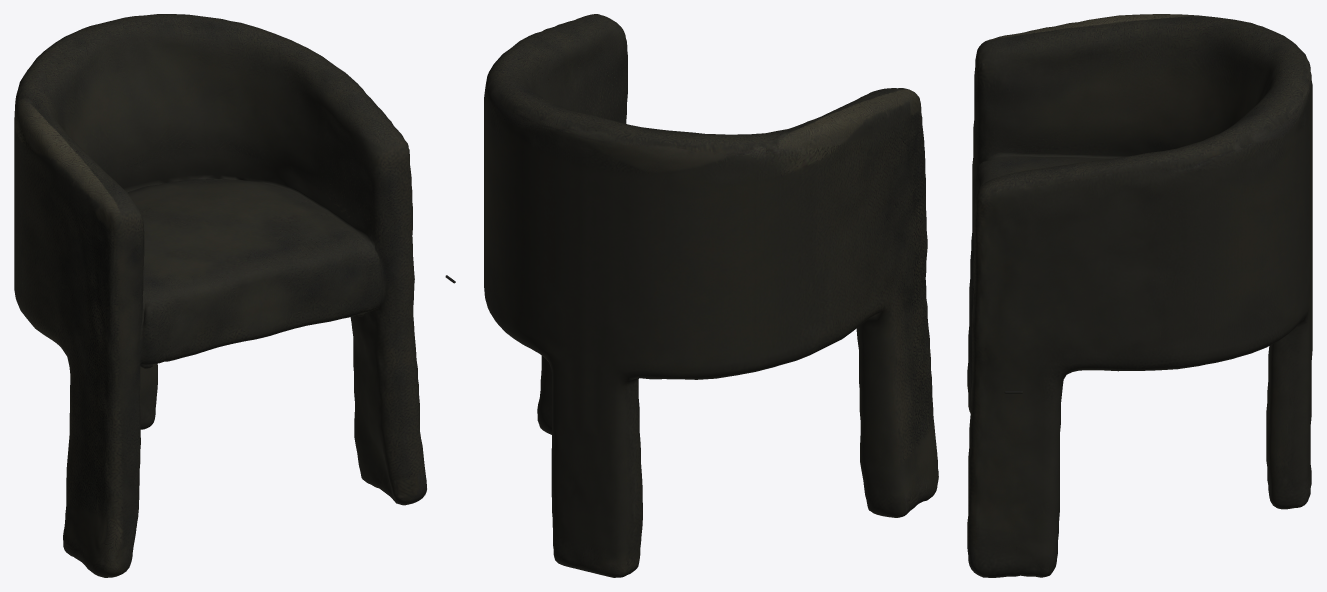
File: Luna_Chair_0404021352_texture.glb
3 renders of one model, left to right at view 1: azimuth 30°, elevation 25°; view 2: azimuth 150°, elevation 25°; view 3: azimuth 270°, elevation 25°, orthographic. The views are drawn at different scales.
Parts seen in each view (by area): view 1: Mesh_0; view 2: Mesh_0; view 3: Mesh_0.
Part boxes in pixels (x1,y1,x2,y2): Mesh_0: [14, 14, 455, 577]; Mesh_0: [484, 14, 938, 577]; Mesh_0: [967, 14, 1312, 577].
Size of the model in its own units: 0.8193 by 0.8636 by 0.6224.
1 material, 1 textured.
